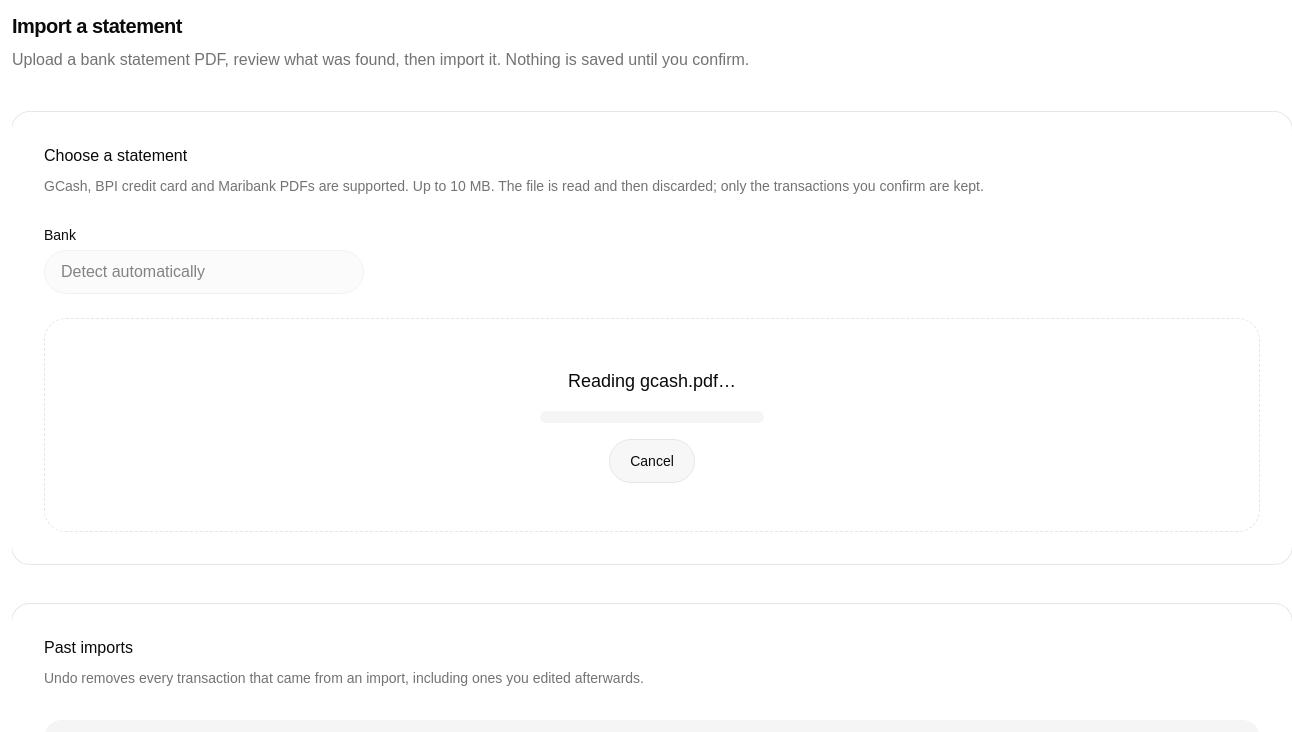
Test: upload › shows progress with a Cancel that stops the upload and returns to the chooser without an error
The image size is (1292, 732).
Earlier steps of the test are not shown.
Expected: the text "Reading gcash.pdf…" is shown, [568,367,736,395]
Click the button "Cancel" at (652, 461), box [609,439,695,483]
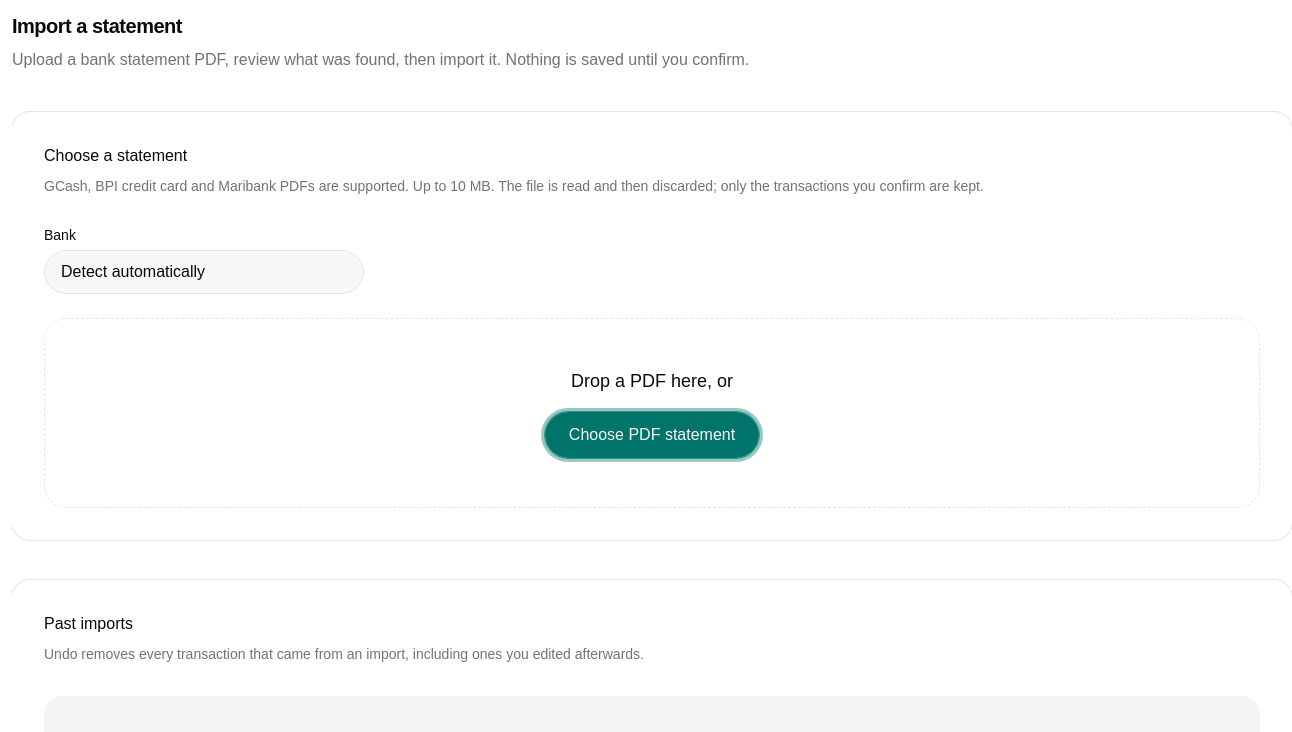
Expected: the button "Choose PDF statement" is shown, [544,411,760,459]
